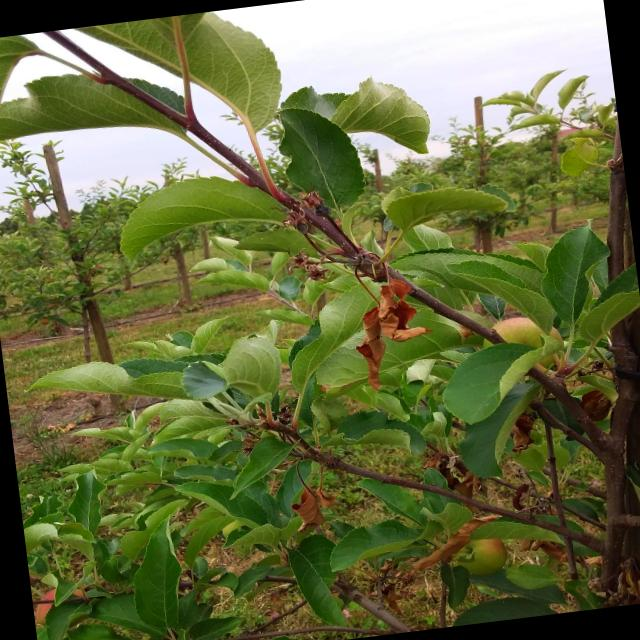-FireBlight-: (335, 230, 427, 386), (286, 458, 340, 526)
